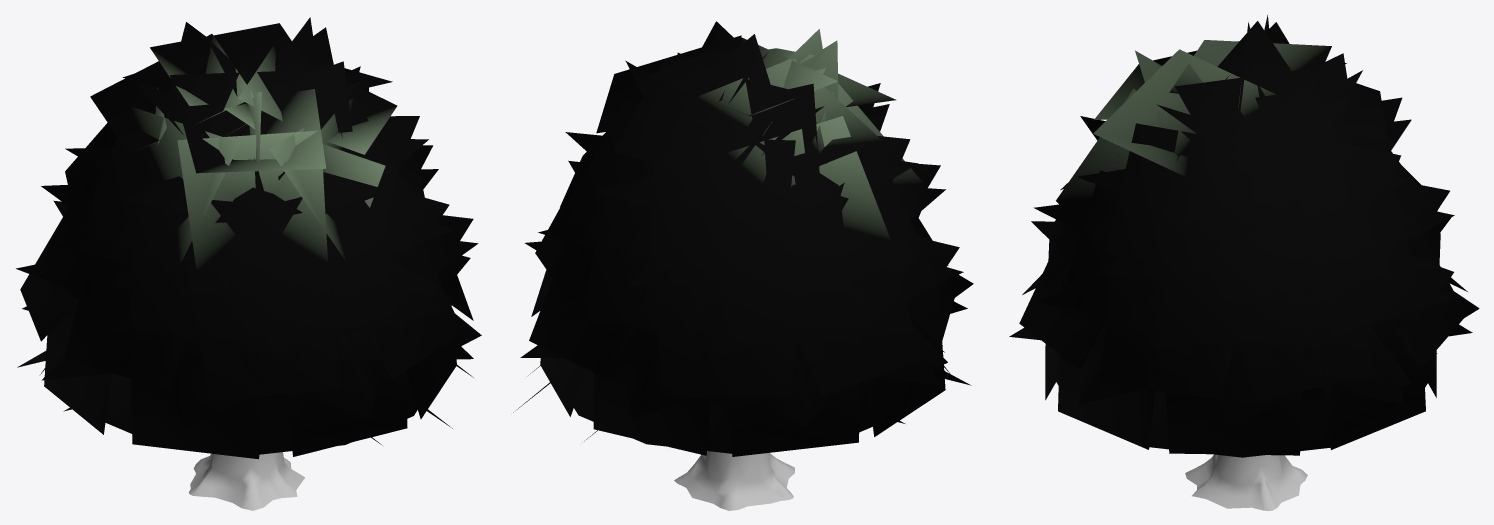
The model's file is round-tree-f.glb.
3 renders of one model, left to right at view 1: azimuth 30°, elevation 25°; view 2: azimuth 150°, elevation 25°; view 3: azimuth 270°, elevation 25°, orthographic.
Parts seen in each view (by area): view 1: round-tree-f; view 2: round-tree-f; view 3: round-tree-f.
Boxes of the visible parts, x1=… form: round-tree-f: x1=16, y1=17, x2=481, y2=510; round-tree-f: x1=513, y1=21, x2=973, y2=510; round-tree-f: x1=1009, y1=15, x2=1479, y2=510.
Bounding box in the file's own units: 3.33 × 3.51 × 3.33.
